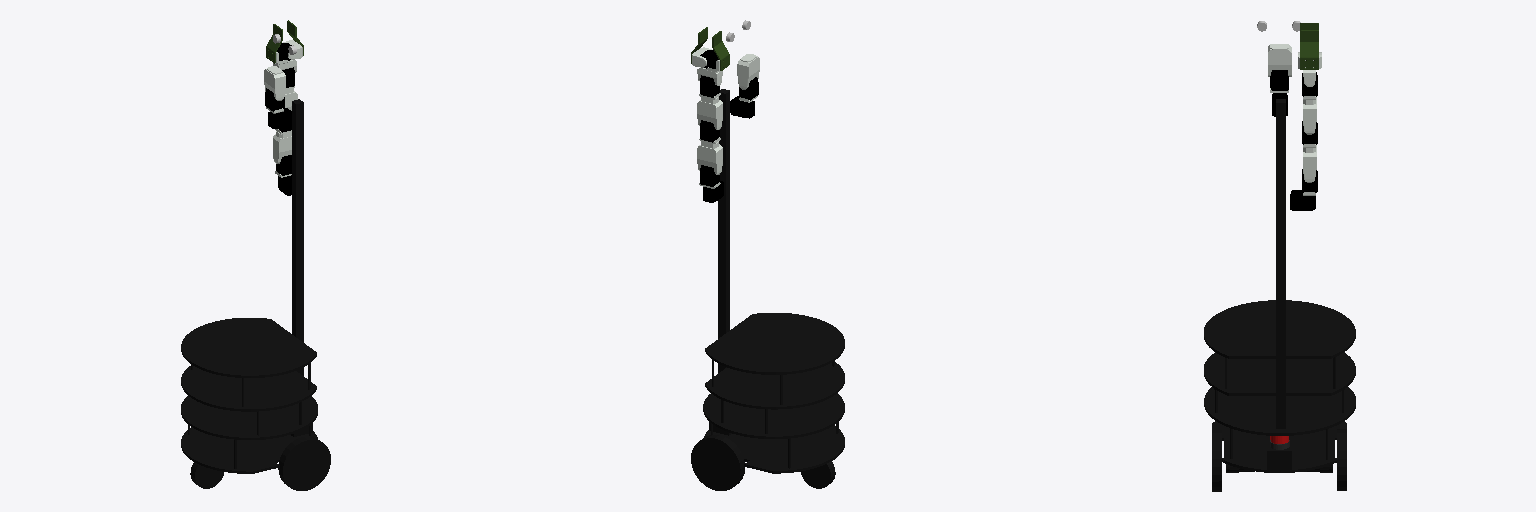
--- What the picture shows (computed from the rendered views, not written in the file) ---
Views: 3 orthographic renders of the robot side by side, from view 1: azimuth 30°, elevation 25°; view 2: azimuth 150°, elevation 25°; view 3: azimuth 270°, elevation 25°.
Model pi_robot with 43 links and 42 joints (7 revolute, 35 fixed), rooted at base_link, posed all joints at 0.
Links seen in each view (by area): view 1: base_link; view 2: base_link, arm_shoulder_lift_link, arm_elbow_flex_link; view 3: base_link, gripper_active_finger_link, base_laser_bottom, bioloid_F4_head_10_link.
Boxes of the visible links, <box> form: base_link: <box>181,99,330,490</box>; base_link: <box>691,89,844,490</box>; arm_shoulder_lift_link: <box>697,144,722,174</box>; arm_elbow_flex_link: <box>697,100,722,129</box>; base_link: <box>1204,99,1355,491</box>; gripper_active_finger_link: <box>1300,30,1318,69</box>; base_laser_bottom: <box>1267,440,1291,469</box>; bioloid_F4_head_10_link: <box>1268,45,1291,76</box>.
Size in the robot's own frame: 0.3138 by 0.3058 by 1.05 metres.
28 mesh visuals loaded from 8 distinct referenced files (7 Collada DAE); not drawn: 1 (reference not matched to a file when rendering).

URDF robot description (pi_robot):
<?xml version="1.0" ?>
<!-- =================================================================================== -->
<!-- |    This document was autogenerated by xacro from pi_robot.xacro                 | -->
<!-- |    EDITING THIS FILE BY HAND IS NOT RECOMMENDED                                 | -->
<!-- =================================================================================== -->
<robot name="pi_robot">
  <material name="white">
    <color rgba="0.87 0.90 0.87 1.0"/>
  </material>
  <material name="black">
    <color rgba="0.0 0.0 0.0 1.0"/>
  </material>
  <material name="green">
    <color rgba="0.22 0.32 0.14 1.0"/>
  </material>
  <material name="Green">
    <color rgba="0.0 0.8 0.0 1.0"/>
  </material>
  <material name="OffWhite">
    <color rgba="0.8 0.8 0.8 0.9"/>
  </material>
  <!-- base_footprint is a fictitious link(frame) that is on the ground right below base_link origin, navigation stack depends on this frame -->
  <!--
  <link name="base_footprint">
    <inertial>
      <mass value="0.0001" />
      <origin xyz="0 0 0" />
      <inertia ixx="0.0001" ixy="0.0" ixz="0.0"
              iyy="0.0001" iyz="0.0" 
              izz="0.0001" />
    </inertial>

    <visual>
      <origin xyz="0 0 0" rpy="0 0 0" />
      <geometry>
        <box size="0.05 0.05 0.001" />
      </geometry>
         <material name="green">
            <color rgba="0.2 0.8 0.2 1.0"/>
         </material>   
    </visual>

    <collision>
      <origin xyz="0 0 0" rpy="0 0 0" />
      <geometry>
       <box size="0.001 0.001 0.001" />
      </geometry>
    </collision>
  </link>
  -->
  <link name="base_link">
    <inertial>
      <mass value="5.0"/>
      <origin xyz="0 0 0"/>
      <inertia ixx="1.0" ixy="0.0" ixz="0.0" iyy="1.0" iyz="0.0" izz="1.0"/>
    </inertial>
    <visual>
      <origin rpy="0 0 -1.57" xyz="0 0 0.073"/>
      <geometry>
        <!--
         <cylinder length="0.3" radius=".15"/>
         -->
        <mesh filename="package://rbx1_description/meshes/pi_robot.dae" scale="0.0254 0.0254 0.0254"/>
      </geometry>
      <material name="grey">
        <color rgba="0.1 0.1 0.1 10"/>
      </material>
    </visual>
    <collision>
      <origin rpy="0 0 0" xyz="0 0 0.16"/>
      <geometry>
        <cylinder length="0.32" radius=".15"/>
      </geometry>
    </collision>
  </link>
  <!--
  <joint name="base_joint" type="fixed">
    <origin xyz="0 0 -0.073" rpy="0 0 0" />        
    <parent link="base_link"/>
    <child link="base_footprint" />
  </joint>
  -->
  <link name="base_laser_bottom">
    <visual>
      <origin rpy="0 0 0" xyz="0 0 0"/>
      <geometry>
        <box size="0.05 0.05 0.041"/>
      </geometry>
      <material name="black">
        <color rgba="0.1 0.1 0.1 1.0"/>
      </material>
    </visual>
    <collision>
      <origin rpy="0 0 0" xyz="0 0 0"/>
      <geometry>
        <box size="0.05 0.05 0.041"/>
      </geometry>
    </collision>
    <inertial>
      <mass value="0.1"/>
      <inertia ixx="0.001" ixy="0.0" ixz="0.0" iyy="0.001" iyz="0.0" izz="0.001"/>
    </inertial>
  </link>
  <joint name="base_laser_bottom_joint" type="fixed">
    <parent link="base_link"/>
    <child link="base_laser_bottom"/>
    <origin rpy="0 0 0" xyz="0.123 0 0.0995"/>
  </joint>
  <link name="base_laser_middle">
    <visual>
      <origin rpy="0 0 0" xyz="0 0 0"/>
      <geometry>
        <cylinder length="0.0115" radius=".02"/>
      </geometry>
      <material name="dark_grey">
        <color rgba="0.2 0.2 0.2 1.0"/>
      </material>
    </visual>
    <collision>
      <origin rpy="0 0 0" xyz="0 0 0"/>
      <geometry>
        <cylinder length="0.0115" radius=".02"/>
      </geometry>
    </collision>
    <inertial>
      <mass value="0.1"/>
      <inertia ixx="0.001" ixy="0.0" ixz="0.0" iyy="0.001" iyz="0.0" izz="0.001"/>
    </inertial>
  </link>
  <joint name="base_laser_middle_joint" type="fixed">
    <parent link="base_laser_bottom"/>
    <child link="base_laser_middle"/>
    <origin rpy="0 0 0" xyz="0 0 0.02625"/>
  </joint>
  <link name="base_laser">
    <visual>
      <origin rpy="0 0 0" xyz="0 0 0"/>
      <geometry>
        <cylinder length="0.0175" radius=".0185"/>
      </geometry>
      <material name="red">
        <color rgba="0.8 0.1 0.1 1.0"/>
      </material>
    </visual>
    <collision>
      <origin rpy="0 0 0" xyz="0 0 0"/>
      <geometry>
        <cylinder length="0.0175" radius=".0185"/>
      </geometry>
    </collision>
    <inertial>
      <mass value="0.1"/>
      <inertia ixx="0.001" ixy="0.0" ixz="0.0" iyy="0.001" iyz="0.0" izz="0.001"/>
    </inertial>
  </link>
  <joint name="base_laser_joint" type="fixed">
    <parent link="base_laser_middle"/>
    <child link="base_laser"/>
    <origin rpy="0 0 0" xyz="0 0 0.0145"/>
  </joint>
  <!-- Attach the head -->
  <link name="head_base_link"/>
  <joint name="head_base_joint" type="fixed">
    <origin xyz="0.064 0 0.871"/>
    <parent link="base_link"/>
    <child link="head_base_link"/>
  </joint>
  <link name="head_pan_link"/>
  <joint name="fake_head_pan_joint" type="fixed">
    <origin rpy="0 1.570795 1.570795" xyz="0 0 0"/>
    <parent link="head_pan_servo_link"/>
    <child link="head_pan_link"/>
  </joint>
  <link name="head_tilt_link"/>
  <joint name="fake_head_tilt_joint" type="fixed">
    <origin rpy="0 0 3.14159" xyz="0 0 0"/>
    <parent link="head_tilt_servo_link"/>
    <child link="head_tilt_link"/>
  </joint>
  <joint name="head_pan_servo_joint" type="fixed">
    <origin rpy="1.570795 0 -1.570795" xyz="0 0 -0.019"/>
    <parent link="head_base_link"/>
    <child link="head_pan_servo_link"/>
  </joint>
  <link name="head_pan_servo_link">
    <inertial>
      <mass value="0.00001"/>
      <origin xyz="0 0 0"/>
      <inertia ixx="1.0" ixy="0.0" ixz="0.0" iyy="1.0" iyz="0.0" izz="1.0"/>
    </inertial>
    <visual>
      <origin rpy="0 0 0" xyz=" 0 0 0 "/>
      <geometry>
        <mesh filename="package://rbx1_description/meshes/ax12_box.dae" scale="100 100 100"/>
      </geometry>
      <material name="black"/>
    </visual>
    <collision>
      <origin rpy="0 0 0" xyz="0.0 0.0 -0.01241"/>
      <geometry>
        <box size="0.025 0.038 0.04762"/>
      </geometry>
    </collision>
  </link>
  <joint name="head_pan_joint" type="revolute">
    <origin rpy="-1.570795 1.570795 3.14159" xyz="0 0.024 0.0"/>
    <parent link="head_pan_servo_link"/>
    <axis xyz="0 0 -1"/>
    <limit effort="30" lower="-2.9" upper="2.9" velocity="1.0"/>
    <child link="bioloid_F3_head_10_link"/>
  </joint>
  <link name="bioloid_F3_head_10_link">
    <inertial>
      <mass value="0.00001"/>
      <origin xyz="0 0 0"/>
      <inertia ixx="1.0" ixy="0.0" ixz="0.0" iyy="1.0" iyz="0.0" izz="1.0"/>
    </inertial>
    <visual>
      <origin rpy="0 0 0" xyz=" 0 0 0 "/>
      <geometry>
        <mesh filename="package://rbx1_description/meshes/F3.dae" scale="0.001 0.001 0.001"/>
      </geometry>
      <material name="white"/>
    </visual>
    <collision>
      <origin rpy="0 0 0" xyz="0.0 0.0 -0.0045"/>
      <geometry>
        <box size="0.025 0.038 0.009"/>
      </geometry>
    </collision>
  </link>
  <joint name="head_tilt_servo_joint" type="fixed">
    <origin rpy="0 3.14159 0" xyz="0 0 -0.0415"/>
    <parent link="bioloid_F3_head_10_link"/>
    <child link="head_tilt_servo_link"/>
  </joint>
  <link name="head_tilt_servo_link">
    <inertial>
      <mass value="0.00001"/>
      <origin xyz="0 0 0"/>
      <inertia ixx="1.0" ixy="0.0" ixz="0.0" iyy="1.0" iyz="0.0" izz="1.0"/>
    </inertial>
    <visual>
      <origin rpy="0 0 0" xyz=" 0 0 0 "/>
      <geometry>
        <mesh filename="package://rbx1_description/meshes/ax12_box.dae" scale="100 100 100"/>
      </geometry>
      <material name="black"/>
    </visual>
    <collision>
      <origin rpy="0 0 0" xyz="0.0 0.0 -0.01241"/>
      <geometry>
        <box size="0.025 0.038 0.04762"/>
      </geometry>
    </collision>
  </link>
  <joint name="head_tilt_joint" type="revolute">
    <origin rpy="0 0 0" xyz="0 0 0"/>
    <parent link="head_tilt_servo_link"/>
    <axis xyz="0 -1 0"/>
    <limit effort="30" lower="-2.9" upper="2.9" velocity="1.0"/>
    <child link="bioloid_F4_head_10_link"/>
  </joint>
  <link name="bioloid_F4_head_10_link">
    <inertial>
      <mass value="0.00001"/>
      <origin xyz="0 0 0"/>
      <inertia ixx="1.0" ixy="0.0" ixz="0.0" iyy="1.0" iyz="0.0" izz="1.0"/>
    </inertial>
    <visual>
      <origin rpy="0 0 0" xyz=" 0 0 0 "/>
      <geometry>
        <mesh filename="package://rbx1_description/meshes/F4.dae" scale="0.001 0.001 0.001"/>
      </geometry>
      <material name="white"/>
    </visual>
    <collision>
      <origin rpy="0 0 0" xyz="0.0 0.0 0.0215"/>
      <geometry>
        <box size="0.028 0.0485 0.065"/>
      </geometry>
    </collision>
  </link>
  <joint name="head_tilt_bracket_joint" type="fixed">
    <origin rpy="0 0 0" xyz="0 0 0.0545"/>
    <parent link="bioloid_F4_head_10_link"/>
    <child link="head_tilt_bracket_link"/>
  </joint>
  <link name="head_tilt_bracket_link">
    <inertial>
      <mass value="0.00001"/>
      <origin xyz="0 0 0"/>
      <inertia ixx="1.0" ixy="0.0" ixz="0.0" iyy="1.0" iyz="0.0" izz="1.0"/>
    </inertial>
    <visual>
      <origin rpy="0 0 0" xyz=" 0 0 0 "/>
      <geometry>
        <mesh filename="package://rbx1_description/meshes/F10.dae" scale="0.001 0.001 0.001"/>
      </geometry>
      <material name="white"/>
    </visual>
    <collision>
      <origin rpy="0 0 0" xyz="0.0 0.0 0.0"/>
      <geometry>
        <box size="0.025 0.038 0.004"/>
      </geometry>
    </collision>
  </link>
  <joint name="base_kinect_joint" type="fixed">
    <origin rpy="0 0 3.14159" xyz="-0.03 0 0.058"/>
    <parent link="head_tilt_bracket_link"/>
    <child link="kinect_link"/>
  </joint>
  <link name="kinect_link">
    <inertial>
      <mass value="0.00001"/>
      <origin xyz="0 0 0"/>
      <inertia ixx="1.0" ixy="0.0" ixz="0.0" iyy="1.0" iyz="0.0" izz="1.0"/>
    </inertial>
    <visual>
      <origin rpy="0 0 0" xyz="0 0 0 "/>
      <geometry>
        <mesh filename="package://rbx1_description/meshes/kinect.dae" scale="100 100 100"/>
      </geometry>
    </visual>
    <collision>
      <origin rpy="0 0 0" xyz="-0.0275 0.0 0.0"/>
      <geometry>
        <box size="0.0730 .2760 0.0720"/>
      </geometry>
    </collision>
  </link>
  <joint name="kinect_depth_joint" type="fixed">
    <origin rpy="0 0 0" xyz="0 0.018 0"/>
    <parent link="kinect_link"/>
    <child link="kinect_depth_frame"/>
  </joint>
  <link name="kinect_depth_frame">
    <inertial>
      <mass value="0.000001"/>
      <origin xyz="0 0 0"/>
      <inertia ixx="0.0001" ixy="0.0" ixz="0.0" iyy="0.0001" iyz="0.0" izz="0.0001"/>
    </inertial>
  </link>
  <joint name="kinect_depth_optical_joint" type="fixed">
    <origin rpy="-1.570795 0 -1.570795" xyz="0 0 0"/>
    <parent link="kinect_depth_frame"/>
    <child link="kinect_depth_optical_frame"/>
  </joint>
  <link name="kinect_depth_optical_frame">
    <inertial>
      <mass value="0.000001"/>
      <origin xyz="0 0 0"/>
      <inertia ixx="0.0001" ixy="0.0" ixz="0.0" iyy="0.0001" iyz="0.0" izz="0.0001"/>
    </inertial>
  </link>
  <joint name="kinect_rgb_joint" type="fixed">
    <origin rpy="0 0 0" xyz="0 -0.005 0"/>
    <parent link="kinect_link"/>
    <child link="kinect_rgb_frame"/>
  </joint>
  <link name="kinect_rgb_frame">
    <inertial>
      <mass value="0.000001"/>
      <origin xyz="0 0 0"/>
      <inertia ixx="0.0001" ixy="0.0" ixz="0.0" iyy="0.0001" iyz="0.0" izz="0.0001"/>
    </inertial>
  </link>
  <joint name="kinect_rgb_optical_joint" type="fixed">
    <origin rpy="-1.570795 0 -1.570795" xyz="0 0 0"/>
    <parent link="kinect_rgb_frame"/>
    <child link="kinect_rgb_optical_frame"/>
  </joint>
  <link name="kinect_rgb_optical_frame">
    <inertial>
      <mass value="0.000001"/>
      <origin xyz="0 0 0"/>
      <inertia ixx="0.0001" ixy="0.0" ixz="0.0" iyy="0.0001" iyz="0.0" izz="0.0001"/>
    </inertial>
  </link>
  <link name="left_eye_link">
    <visual>
      <origin rpy="0 1.57 0" xyz="0 0 0"/>
      <geometry>
        <cylinder length="0.01" radius="0.01"/>
      </geometry>
      <material name="OffWhite"/>
    </visual>
    <collision>
      <origin rpy="0 1.57 0" xyz="0 0 0"/>
      <geometry>
        <cylinder length="0.01" radius="0.01"/>
      </geometry>
    </collision>
    <inertial>
      <mass value="0.00001"/>
      <origin xyz="0 0 0"/>
      <inertia ixx="1.0" ixy="0.0" ixz="0.0" iyy="1.0" iyz="0.0" izz="1.0"/>
    </inertial>
  </link>
  <link name="right_eye_link">
    <visual>
      <origin rpy="0 1.57 0" xyz="0 0 0"/>
      <geometry>
        <cylinder length="0.01" radius="0.01"/>
      </geometry>
      <material name="OffWhite"/>
    </visual>
    <collision>
      <origin rpy="0 1.57 0" xyz="0 0 0"/>
      <geometry>
        <cylinder length="0.01" radius="0.01"/>
      </geometry>
    </collision>
    <inertial>
      <mass value="0.00001"/>
      <origin xyz="0 0 0"/>
      <inertia ixx="1.0" ixy="0.0" ixz="0.0" iyy="1.0" iyz="0.0" izz="1.0"/>
    </inertial>
  </link>
  <joint name="left_eye_joint" type="fixed">
    <parent link="kinect_link"/>
    <child link="left_eye_link"/>
    <origin rpy="0 0 0" xyz="-0.005 0.035 0"/>
  </joint>
  <joint name="right_eye_joint" type="fixed">
    <parent link="kinect_link"/>
    <child link="right_eye_link"/>
    <origin rpy="0 0 0" xyz="-0.005 -0.035 0"/>
  </joint>
  <!-- Attach the arm -->
  <link name="arm_base_link"/>
  <joint name="arm_base_joint" type="fixed">
    <origin rpy="0 0 1.57" xyz="0.125 0.06 0.6615"/>
    <parent link="base_link"/>
    <child link="arm_base_link"/>
  </joint>
  <link name="gripper_link"/>
  <joint name="gripper_link_joint" type="fixed">
    <origin rpy="0 -1.570795 0" xyz="0 0 .112"/>
    <parent link="arm_wrist_flex_link"/>
    <child link="gripper_link"/>
  </joint>
  <joint name="arm_shoulder_pan_servo_joint" type="fixed">
    <origin rpy="1.570795 0 1.570795" xyz="0 0 0"/>
    <parent link="arm_base_link"/>
    <child link="arm_shoulder_pan_servo_link"/>
  </joint>
  <link name="arm_shoulder_pan_servo_link">
    <inertial>
      <mass value="0.00001"/>
      <origin xyz="0 0 0"/>
      <inertia ixx="1.0" ixy="0.0" ixz="0.0" iyy="1.0" iyz="0.0" izz="1.0"/>
    </inertial>
    <visual>
      <origin rpy="0 0 0" xyz=" 0 0 0 "/>
      <geometry>
        <mesh filename="package://rbx1_description/meshes/ax12_box.dae" scale="100 100 100"/>
      </geometry>
      <material name="black"/>
    </visual>
    <collision>
      <origin rpy="0 0 0" xyz="0.0 0.0 -0.01241"/>
      <geometry>
        <box size="0.025 0.038 0.04762"/>
      </geometry>
    </collision>
  </link>
  <joint name="arm_shoulder_pan_joint" type="revolute">
    <origin rpy="-1.570795 1.570795 3.14159" xyz="0 0.019 0"/>
    <axis xyz="0 0 -1"/>
    <limit effort="30" lower="-2.617" upper="2.617" velocity="0.785"/>
    <parent link="arm_shoulder_pan_servo_link"/>
    <child link="arm_shoulder_pan_link"/>
  </joint>
  <link name="arm_shoulder_pan_link">
    <inertial>
      <mass value="0.00001"/>
      <origin xyz="0 0 0"/>
      <inertia ixx="1.0" ixy="0.0" ixz="0.0" iyy="1.0" iyz="0.0" izz="1.0"/>
    </inertial>
    <visual>
      <origin rpy="0 0 0" xyz=" 0 0 0 "/>
      <geometry>
        <mesh filename="package://rbx1_description/meshes/F3.dae" scale="0.001 0.001 0.001"/>
      </geometry>
      <material name="white"/>
    </visual>
    <collision>
      <origin rpy="0 0 0" xyz="0.0 0.0 -0.0045"/>
      <geometry>
        <box size="0.025 0.038 0.009"/>
      </geometry>
    </collision>
  </link>
  <joint name="arm_shoulder_lift_servo_joint" type="fixed">
    <origin rpy="0 3.14159 0" xyz="0 0 -0.0415"/>
    <parent link="arm_shoulder_pan_link"/>
    <child link="arm_shoulder_lift_servo_link"/>
  </joint>
  <link name="arm_shoulder_lift_servo_link">
    <inertial>
      <mass value="0.00001"/>
      <origin xyz="0 0 0"/>
      <inertia ixx="1.0" ixy="0.0" ixz="0.0" iyy="1.0" iyz="0.0" izz="1.0"/>
    </inertial>
    <visual>
      <origin rpy="0 0 0" xyz=" 0 0 0 "/>
      <geometry>
        <mesh filename="package://rbx1_description/meshes/ax12_box.dae" scale="100 100 100"/>
      </geometry>
      <material name="black"/>
    </visual>
    <collision>
      <origin rpy="0 0 0" xyz="0.0 0.0 -0.01241"/>
      <geometry>
        <box size="0.025 0.038 0.04762"/>
      </geometry>
    </collision>
  </link>
  <joint name="arm_shoulder_lift_joint" type="revolute">
    <origin rpy="0 0 0" xyz="0 0 0"/>
    <axis xyz="0 1 0"/>
    <limit effort="30" lower="-2.617" upper="2.617" velocity="1.571"/>
    <parent link="arm_shoulder_lift_servo_link"/>
    <child link="arm_shoulder_lift_link"/>
  </joint>
  <link name="arm_shoulder_lift_link">
    <inertial>
      <mass value="0.00001"/>
      <origin xyz="0 0 0"/>
      <inertia ixx="1.0" ixy="0.0" ixz="0.0" iyy="1.0" iyz="0.0" izz="1.0"/>
    </inertial>
    <visual>
      <origin rpy="0 0 0" xyz=" 0 0 0 "/>
      <geometry>
        <mesh filename="package://rbx1_description/meshes/F4.dae" scale="0.001 0.001 0.001"/>
      </geometry>
      <material name="white"/>
    </visual>
    <collision>
      <origin rpy="0 0 0" xyz="0.0 0.0 0.0215"/>
      <geometry>
        <box size="0.028 0.0485 0.065"/>
      </geometry>
    </collision>
  </link>
  <joint name="arm_shoulder_F10_0_joint" type="fixed">
    <origin rpy="0 0 0" xyz="0 0 0.0545"/>
    <parent link="arm_shoulder_lift_link"/>
    <child link="arm_shoulder_F10_0_link"/>
  </joint>
  <link name="arm_shoulder_F10_0_link">
    <inertial>
      <mass value="0.00001"/>
      <origin xyz="0 0 0"/>
      <inertia ixx="1.0" ixy="0.0" ixz="0.0" iyy="1.0" iyz="0.0" izz="1.0"/>
    </inertial>
    <visual>
      <origin rpy="0 0 0" xyz=" 0 0 0 "/>
      <geometry>
        <mesh filename="package://rbx1_description/meshes/F10.dae" scale="0.001 0.001 0.001"/>
      </geometry>
      <material name="white"/>
    </visual>
    <collision>
      <origin rpy="0 0 0" xyz="0.0 0.0 0.0"/>
      <geometry>
        <box size="0.025 0.038 0.004"/>
      </geometry>
    </collision>
  </link>
  <joint name="arm_shoulder_F10_1_joint" type="fixed">
    <origin rpy="0 0 0" xyz="0 0 0.004"/>
    <parent link="arm_shoulder_F10_0_link"/>
    <child link="arm_shoulder_F10_1_link"/>
  </joint>
  <link name="arm_shoulder_F10_1_link">
    <inertial>
      <mass value="0.00001"/>
      <origin xyz="0 0 0"/>
      <inertia ixx="1.0" ixy="0.0" ixz="0.0" iyy="1.0" iyz="0.0" izz="1.0"/>
    </inertial>
    <visual>
      <origin rpy="0 0 0" xyz=" 0 0 0 "/>
      <geometry>
        <mesh filename="package://rbx1_description/meshes/F10.dae" scale="0.001 0.001 0.001"/>
      </geometry>
      <material name="white"/>
    </visual>
    <collision>
      <origin rpy="0 0 0" xyz="0.0 0.0 0.0"/>
      <geometry>
        <box size="0.025 0.038 0.004"/>
      </geometry>
    </collision>
  </link>
  <joint name="arm_shoulder_F10_2_joint" type="fixed">
    <origin rpy="0 0 0" xyz="0 0 0.004"/>
    <parent link="arm_shoulder_F10_1_link"/>
    <child link="arm_shoulder_F10_2_link"/>
  </joint>
  <link name="arm_shoulder_F10_2_link">
    <inertial>
      <mass value="0.00001"/>
      <origin xyz="0 0 0"/>
      <inertia ixx="1.0" ixy="0.0" ixz="0.0" iyy="1.0" iyz="0.0" izz="1.0"/>
    </inertial>
    <visual>
      <origin rpy="0 0 0" xyz=" 0 0 0 "/>
      <geometry>
        <mesh filename="package://rbx1_description/meshes/F10.dae" scale="0.001 0.001 0.001"/>
      </geometry>
      <material name="white"/>
    </visual>
    <collision>
      <origin rpy="0 0 0" xyz="0.0 0.0 0.0"/>
      <geometry>
        <box size="0.025 0.038 0.004"/>
      </geometry>
    </collision>
  </link>
  <joint name="arm_shoulder_F3_0_joint" type="fixed">
    <origin rpy="0 3.14159 0" xyz="0 0 0.002"/>
    <parent link="arm_shoulder_F10_2_link"/>
    <child link="arm_shoulder_F3_0_link"/>
  </joint>
  <link name="arm_shoulder_F3_0_link">
    <inertial>
      <mass value="0.00001"/>
      <origin xyz="0 0 0"/>
      <inertia ixx="1.0" ixy="0.0" ixz="0.0" iyy="1.0" iyz="0.0" izz="1.0"/>
    </inertial>
    <visual>
      <origin rpy="0 0 0" xyz=" 0 0 0 "/>
      <geometry>
        <mesh filename="package://rbx1_description/meshes/F3.dae" scale="0.001 0.001 0.001"/>
      </geometry>
      <material name="white"/>
    </visual>
    <collision>
      <origin rpy="0 0 0" xyz="0.0 0.0 -0.0045"/>
      <geometry>
        <box size="0.025 0.038 0.009"/>
      </geometry>
    </collision>
  </link>
  <joint name="arm_elbow_flex_servo_joint" type="fixed">
    <origin rpy="0 3.14159 0" xyz="0 0 -0.0415"/>
    <parent link="arm_shoulder_F3_0_link"/>
    <child link="arm_elbow_flex_servo_link"/>
  </joint>
  <link name="arm_elbow_flex_servo_link">
    <inertial>
      <mass value="0.00001"/>
      <origin xyz="0 0 0"/>
      <inertia ixx="1.0" ixy="0.0" ixz="0.0" iyy="1.0" iyz="0.0" izz="1.0"/>
    </inertial>
    <visual>
      <origin rpy="0 0 0" xyz=" 0 0 0 "/>
      <geometry>
        <mesh filename="package://rbx1_description/meshes/ax12_box.dae" scale="100 100 100"/>
      </geometry>
      <material name="black"/>
    </visual>
    <collision>
      <origin rpy="0 0 0" xyz="0.0 0.0 -0.01241"/>
      <geometry>
        <box size="0.025 0.038 0.04762"/>
      </geometry>
    </collision>
  </link>
  <joint name="arm_elbow_flex_joint" type="revolute">
    <origin rpy="0 0 0" xyz="0 0 0"/>
    <axis xyz="0 1 0"/>
    <limit effort="30" lower="-2.617" upper="2.617" velocity="1.571"/>
    <parent link="arm_elbow_flex_servo_link"/>
    <child link="arm_elbow_flex_link"/>
  </joint>
  <link name="arm_elbow_flex_link">
    <inertial>
      <mass value="0.00001"/>
      <origin xyz="0 0 0"/>
      <inertia ixx="1.0" ixy="0.0" ixz="0.0" iyy="1.0" iyz="0.0" izz="1.0"/>
    </inertial>
    <visual>
      <origin rpy="0 0 0" xyz=" 0 0 0 "/>
      <geometry>
        <mesh filename="package://rbx1_description/meshes/F4.dae" scale="0.001 0.001 0.001"/>
      </geometry>
      <material name="white"/>
    </visual>
    <collision>
      <origin rpy="0 0 0" xyz="0.0 0.0 0.0215"/>
      <geometry>
        <box size="0.028 0.0485 0.065"/>
      </geometry>
    </collision>
  </link>
  <joint name="arm_elbow_F10_0_joint" type="fixed">
    <origin rpy="0 0 0" xyz="0 0 0.0545"/>
    <parent link="arm_elbow_flex_link"/>
    <child link="arm_elbow_F10_0_link"/>
  </joint>
  <link name="arm_elbow_F10_0_link">
    <inertial>
      <mass value="0.00001"/>
      <origin xyz="0 0 0"/>
      <inertia ixx="1.0" ixy="0.0" ixz="0.0" iyy="1.0" iyz="0.0" izz="1.0"/>
    </inertial>
    <visual>
      <origin rpy="0 0 0" xyz=" 0 0 0 "/>
      <geometry>
        <mesh filename="package://rbx1_description/meshes/F10.dae" scale="0.001 0.001 0.001"/>
      </geometry>
      <material name="white"/>
    </visual>
    <collision>
      <origin rpy="0 0 0" xyz="0.0 0.0 0.0"/>
      <geometry>
        <box size="0.025 0.038 0.004"/>
      </geometry>
    </collision>
  </link>
  <joint name="arm_elbow_F10_1_joint" type="fixed">
    <origin rpy="0 0 0" xyz="0 0 0.004"/>
    <parent link="arm_elbow_F10_0_link"/>
    <child link="arm_elbow_F10_1_link"/>
  </joint>
  <link name="arm_elbow_F10_1_link">
    <inertial>
      <mass value="0.00001"/>
      <origin xyz="0 0 0"/>
      <inertia ixx="1.0" ixy="0.0" ixz="0.0" iyy="1.0" iyz="0.0" izz="1.0"/>
    </inertial>
    <visual>
      <origin rpy="0 0 0" xyz=" 0 0 0 "/>
      <geometry>
        <mesh filename="package://rbx1_description/meshes/F10.dae" scale="0.001 0.001 0.001"/>
      </geometry>
      <material name="white"/>
    </visual>
    <collision>
      <origin rpy="0 0 0" xyz="0.0 0.0 0.0"/>
      <geometry>
        <box size="0.025 0.038 0.004"/>
      </geometry>
    </collision>
  </link>
  <joint name="arm_elbow_F10_2_joint" type="fixed">
    <origin rpy="0 0 0" xyz="0 0 0.004"/>
    <parent link="arm_elbow_F10_1_link"/>
    <child link="arm_elbow_F10_2_link"/>
  </joint>
  <link name="arm_elbow_F10_2_link">
    <inertial>
      <mass value="0.00001"/>
      <origin xyz="0 0 0"/>
      <inertia ixx="1.0" ixy="0.0" ixz="0.0" iyy="1.0" iyz="0.0" izz="1.0"/>
    </inertial>
    <visual>
      <origin rpy="0 0 0" xyz=" 0 0 0 "/>
      <geometry>
        <mesh filename="package://rbx1_description/meshes/F10.dae" scale="0.001 0.001 0.001"/>
      </geometry>
      <material name="white"/>
    </visual>
    <collision>
      <origin rpy="0 0 0" xyz="0.0 0.0 0.0"/>
      <geometry>
        <box size="0.025 0.038 0.004"/>
      </geometry>
    </collision>
  </link>
  <joint name="arm_elbow_F3_0_joint" type="fixed">
    <origin rpy="0 3.14159 0" xyz="0 0 0.002"/>
    <parent link="arm_elbow_F10_2_link"/>
    <child link="arm_elbow_F3_0_link"/>
  </joint>
  <link name="arm_elbow_F3_0_link">
    <inertial>
      <mass value="0.00001"/>
      <origin xyz="0 0 0"/>
      <inertia ixx="1.0" ixy="0.0" ixz="0.0" iyy="1.0" iyz="0.0" izz="1.0"/>
    </inertial>
    <visual>
      <origin rpy="0 0 0" xyz=" 0 0 0 "/>
      <geometry>
        <mesh filename="package://rbx1_description/meshes/F3.dae" scale="0.001 0.001 0.001"/>
      </geometry>
      <material name="white"/>
    </visual>
    <collision>
      <origin rpy="0 0 0" xyz="0.0 0.0 -0.0045"/>
      <geometry>
        <box size="0.025 0.038 0.009"/>
      </geometry>
    </collision>
  </link>
  <joint name="arm_wrist_flex_servo_joint" type="fixed">
    <origin rpy="0 3.14159 0" xyz="0 0 -0.0415"/>
    <parent link="arm_elbow_F3_0_link"/>
    <child link="arm_wrist_flex_servo_link"/>
  </joint>
  <link name="arm_wrist_flex_servo_link">
    <inertial>
      <mass value="0.00001"/>
      <origin xyz="0 0 0"/>
      <inertia ixx="1.0" ixy="0.0" ixz="0.0" iyy="1.0" iyz="0.0" izz="1.0"/>
    </inertial>
    <visual>
      <origin rpy="0 0 0" xyz=" 0 0 0 "/>
      <geometry>
        <mesh filename="package://rbx1_description/meshes/ax12_box.dae" scale="100 100 100"/>
      </geometry>
      <material name="black"/>
    </visual>
    <collision>
      <origin rpy="0 0 0" xyz="0.0 0.0 -0.01241"/>
      <geometry>
        <box size="0.025 0.038 0.04762"/>
      </geometry>
    </collision>
  </link>
  <joint name="arm_wrist_flex_joint" type="revolute">
    <origin rpy="0 0 0" xyz="0 0 0"/>
    <axis xyz="0 1 0"/>
    <limit effort="30" lower="-1.745" upper="1.745" velocity="1.571"/>
    <parent link="arm_wrist_flex_servo_link"/>
    <child link="arm_wrist_flex_link"/>
  </joint>
  <link name="arm_wrist_flex_link">
    <inertial>
      <mass value="0.00001"/>
      <origin xyz="0 0 0"/>
      <inertia ixx="1.0" ixy="0.0" ixz="0.0" iyy="1.0" iyz="0.0" izz="1.0"/>
    </inertial>
    <visual>
      <origin rpy="0 0 0" xyz=" 0 0 0 "/>
      <geometry>
        <mesh filename="package://rbx1_description/meshes/F2.dae" scale="0.001 0.001 0.001"/>
      </geometry>
      <material name="white"/>
    </visual>
    <collision>
      <origin rpy="0 0 0" xyz="0.0 0.0 0.00775"/>
      <geometry>
        <box size="0.025 0.0485 0.0375"/>
      </geometry>
    </collision>
  </link>
  <joint name="arm_wrist_F3_0_joint" type="fixed">
    <origin rpy="0 3.14159 -1.570795" xyz="0 0.016 0.0265"/>
    <parent link="arm_wrist_flex_link"/>
    <child link="arm_wrist_F3_0_link"/>
  </joint>
  <link name="arm_wrist_F3_0_link">
    <inertial>
      <mass value="0.00001"/>
      <origin xyz="0 0 0"/>
      <inertia ixx="1.0" ixy="0.0" ixz="0.0" iyy="1.0" iyz="0.0" izz="1.0"/>
    </inertial>
    <visual>
      <origin rpy="0 0 0" xyz=" 0 0 0 "/>
      <geometry>
        <mesh filename="package://rbx1_description/meshes/F3.dae" scale="0.001 0.001 0.001"/>
      </geometry>
      <material name="white"/>
    </visual>
    <collision>
      <origin rpy="0 0 0" xyz="0.0 0.0 -0.0045"/>
      <geometry>
        <box size="0.025 0.038 0.009"/>
      </geometry>
    </collision>
  </link>
  <joint name="gripper_servo_joint" type="fixed">
    <origin rpy="3.14159 1.570795 0" xyz="-0.02275 0 -0.019"/>
    <parent link="arm_wrist_F3_0_link"/>
    <child link="gripper_servo_link"/>
  </joint>
  <link name="gripper_servo_link">
    <inertial>
      <mass value="0.00001"/>
      <origin xyz="0 0 0"/>
      <inertia ixx="1.0" ixy="0.0" ixz="0.0" iyy="1.0" iyz="0.0" izz="1.0"/>
    </inertial>
    <visual>
      <origin rpy="0 0 0" xyz=" 0 0 0 "/>
      <geometry>
        <mesh filename="package://rbx1_description/meshes/ax12_box.dae" scale="100 100 100"/>
      </geometry>
      <material name="black"/>
    </visual>
    <collision>
      <origin rpy="0 0 0" xyz="0.0 0.0 -0.01241"/>
      <geometry>
        <box size="0.025 0.038 0.04762"/>
      </geometry>
    </collision>
  </link>
  <joint name="gripper_joint" type="revolute">
    <origin rpy="0 0 0" xyz="0 0 0"/>
    <axis xyz="0 1 0"/>
    <limit effort="30" lower="-0.060" upper="0.50" velocity="0.785"/>
    <parent link="gripper_servo_link"/>
    <child link="gripper_active_link"/>
  </joint>
  <link name="gripper_active_link">
    <inertial>
      <mass value="0.00001"/>
      <origin xyz="0 0 0"/>
      <inertia ixx="1.0" ixy="0.0" ixz="0.0" iyy="1.0" iyz="0.0" izz="1.0"/>
    </inertial>
    <visual>
      <origin rpy="0 0 0" xyz=" 0 0 0 "/>
      <geometry>
        <mesh filename="package://rbx1_description/meshes/F2.dae" scale="0.001 0.001 0.001"/>
      </geometry>
      <material name="white"/>
    </visual>
    <collision>
      <origin rpy="0 0 0" xyz="0.0 0.0 0.00775"/>
      <geometry>
        <box size="0.025 0.0485 0.0375"/>
      </geometry>
    </collision>
  </link>
  <joint name="gripper_active_finger_joint" type="fixed">
    <origin rpy="0 0 0" xyz="0 0 0.0265"/>
    <parent link="gripper_active_link"/>
    <child link="gripper_active_finger_link"/>
  </joint>
  <link name="gripper_active_finger_link">
    <inertial>
      <mass value="0.00001"/>
      <origin xyz="0 0 0"/>
      <inertia ixx="1.0" ixy="0.0" ixz="0.0" iyy="1.0" iyz="0.0" izz="1.0"/>
    </inertial>
    <visual>
      <origin rpy="0 0 0" xyz=" 0 0 0 "/>
      <geometry>
        <mesh filename="package://rbx1_description/meshes/finger.dae" scale="0.001 0.001 0.001"/>
      </geometry>
      <material name="green"/>
    </visual>
    <collision>
      <origin rpy="0 0 0" xyz="0.02645 0.0 -0.00655"/>
      <geometry>
        <box size="0.0783 0.03801 0.0193"/>
      </geometry>
    </collision>
  </link>
  <joint name="gripper_static_joint" type="fixed">
    <origin rpy="0 3.14159 0" xyz="0 0 -0.0415"/>
    <parent link="gripper_servo_link"/>
    <child link="gripper_static_link"/>
  </joint>
  <link name="gripper_static_link">
    <inertial>
      <mass value="0.00001"/>
      <origin xyz="0 0 0"/>
      <inertia ixx="1.0" ixy="0.0" ixz="0.0" iyy="1.0" iyz="0.0" izz="1.0"/>
    </inertial>
    <visual>
      <origin rpy="0 0 0" xyz=" 0 0 0 "/>
      <geometry>
        <mesh filename="package://rbx1_description/meshes/F3.dae" scale="0.001 0.001 0.001"/>
      </geometry>
      <material name="white"/>
    </visual>
    <collision>
      <origin rpy="0 0 0" xyz="0.0 0.0 -0.0045"/>
      <geometry>
        <box size="0.025 0.038 0.009"/>
      </geometry>
    </collision>
  </link>
  <joint name="gripper_static_finger_joint" type="fixed">
    <origin rpy="0 0 3.14159" xyz="0 0 0"/>
    <parent link="gripper_static_link"/>
    <child link="gripper_static_finger_link"/>
  </joint>
  <link name="gripper_static_finger_link">
    <inertial>
      <mass value="0.00001"/>
      <origin xyz="0 0 0"/>
      <inertia ixx="1.0" ixy="0.0" ixz="0.0" iyy="1.0" iyz="0.0" izz="1.0"/>
    </inertial>
    <visual>
      <origin rpy="0 0 0" xyz=" 0 0 0 "/>
      <geometry>
        <mesh filename="package://rbx1_description/meshes/finger.dae" scale="0.001 0.001 0.001"/>
      </geometry>
      <material name="green"/>
    </visual>
    <collision>
      <origin rpy="0 0 0" xyz="0.02645 0.0 -0.00655"/>
      <geometry>
        <box size="0.0783 0.03801 0.0193"/>
      </geometry>
    </collision>
  </link>
</robot>
